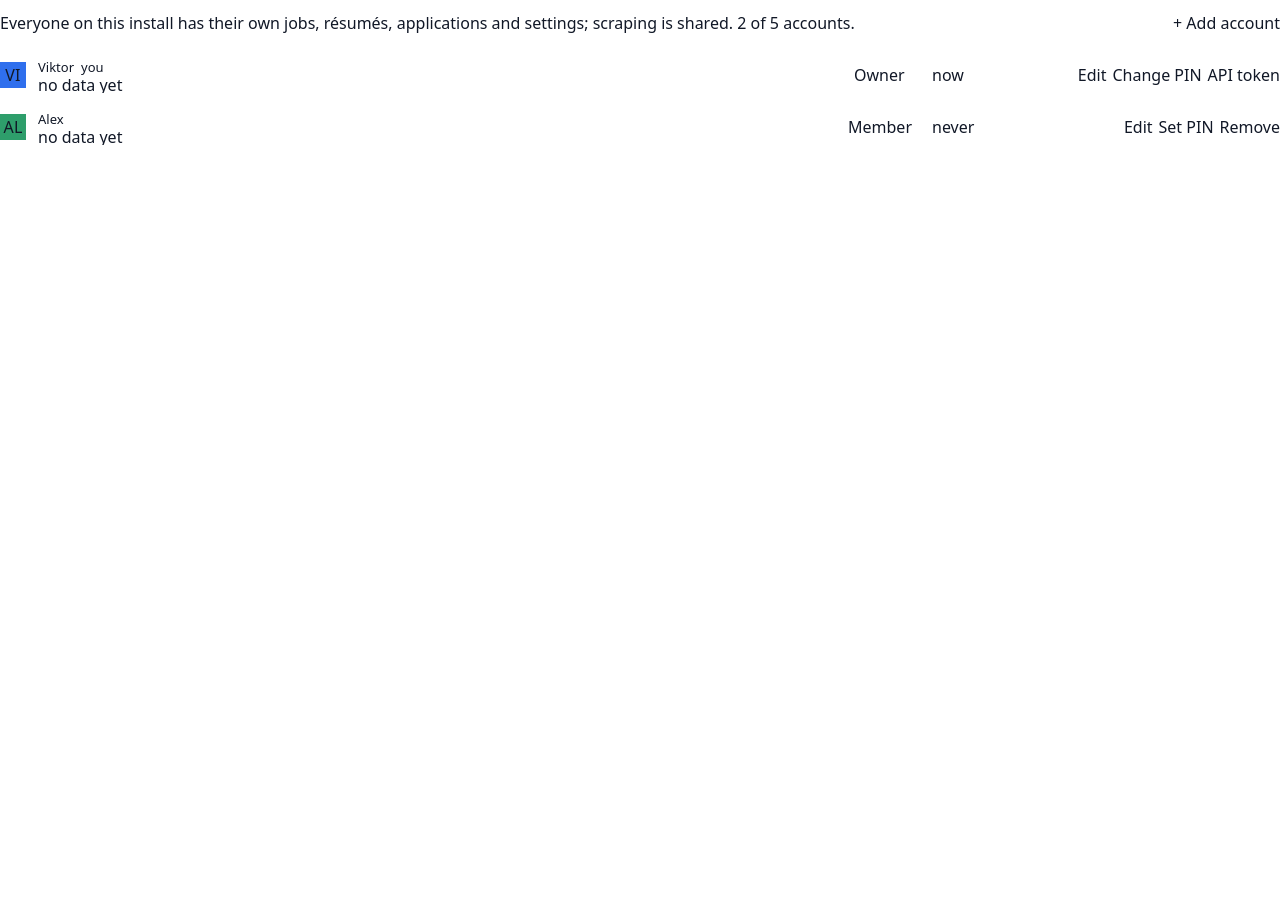
Test: AccountsTable (owner, always shown) › a member row has Edit, Reset PIN and Remove; own PIN dialog offers Remove PIN instead
The width and height of the screenshot is (1280, 900).
expect the button with aria-label "Rename or recolour Alex" is shown: met, box [1124, 114, 1152, 140]
expect the button with aria-label "Remove Alex" is shown: met, box [1220, 114, 1279, 140]
Click the button with aria-label "Change your PIN".
click(1157, 75)  # box [1112, 62, 1202, 88]
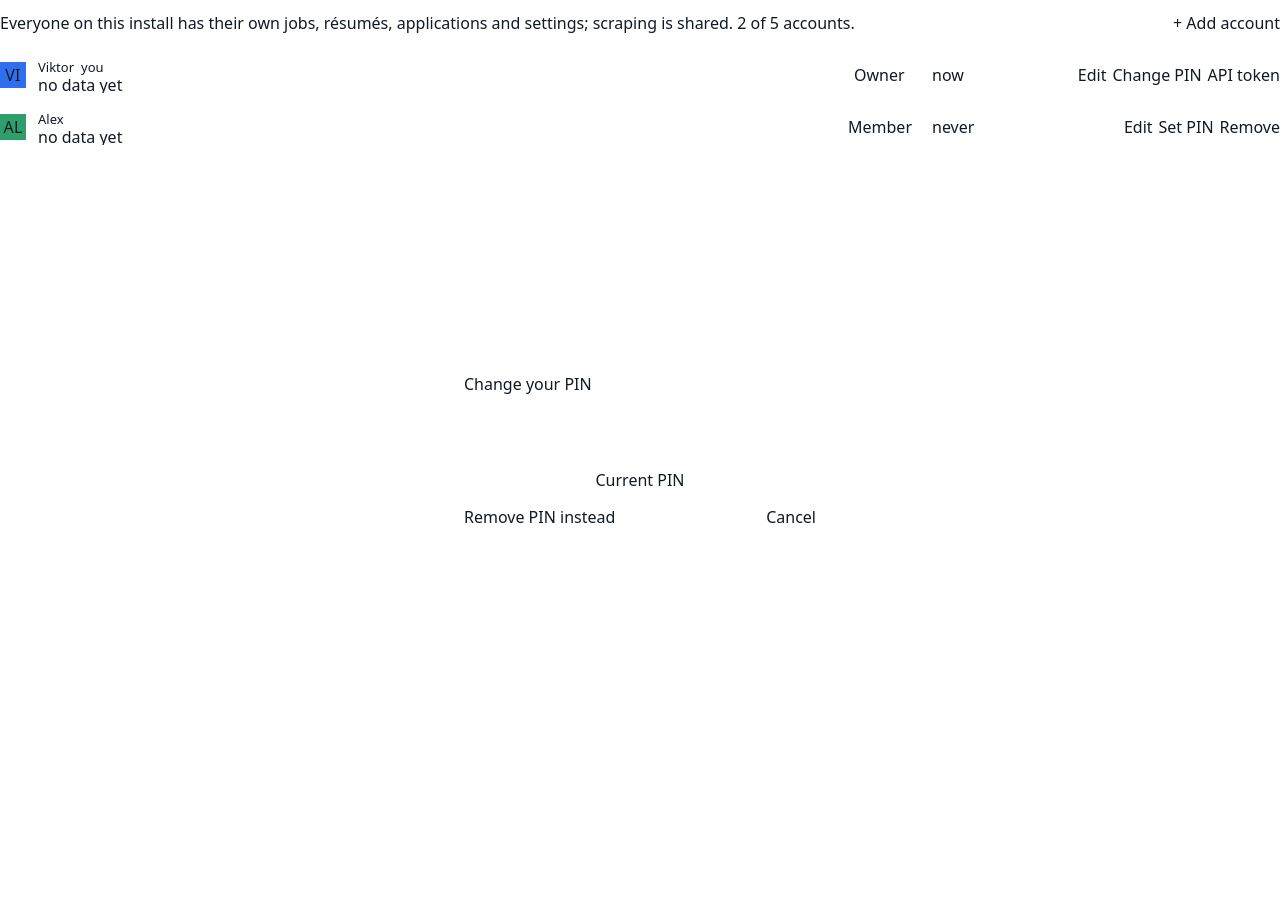
Click the link "Remove PIN instead".
click(540, 517)  # box [464, 508, 615, 526]
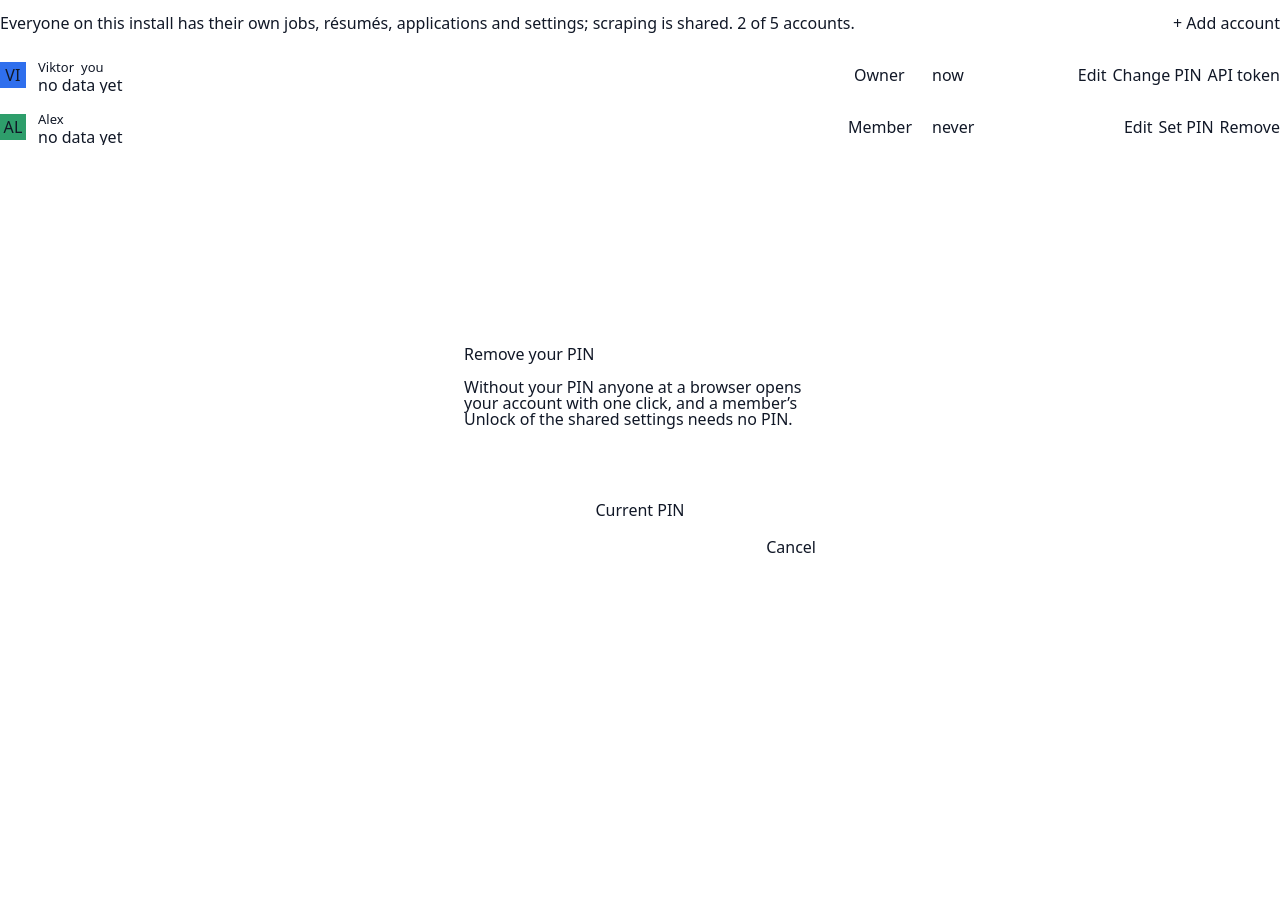
expect the text "Remove your PIN" is shown: met, box [464, 342, 594, 364]
